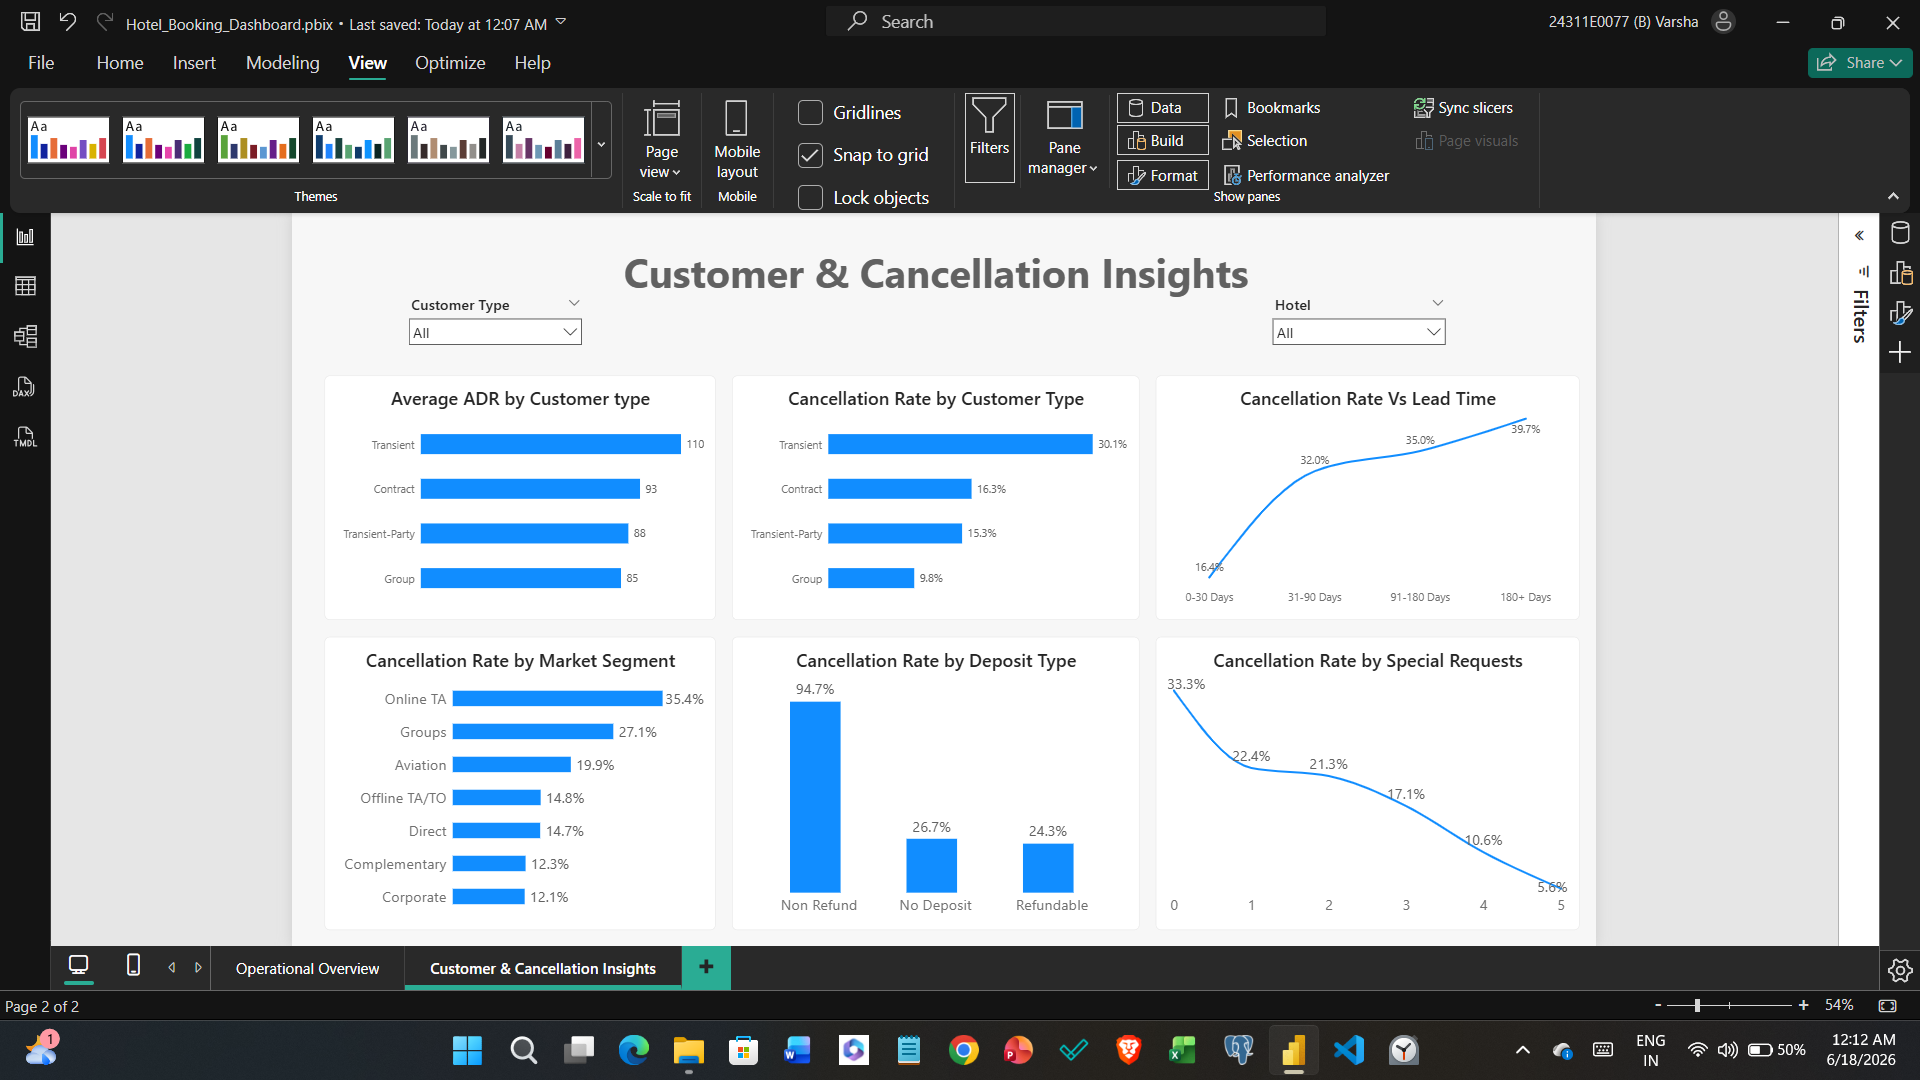

This screenshot's page, from the dashboard's own definition file:
{"tool":"powerbi","page":{"name":"Customer & Cancellation Insights","canvas":[1920,1080],"ordinal":1},"visuals":[{"type":"clusteredBarChart","title":"Average ADR by Customer type","fields":{"Category":["hotel_bookings_cleaned.customer_type"],"Y":["hotel_bookings_cleaned.Average ADR"]},"box":[48,240,576,360],"z":0},{"type":"clusteredBarChart","title":"Cancellation Rate by Customer Type","fields":{"Category":["hotel_bookings_cleaned.customer_type"],"Y":["hotel_bookings_cleaned.Cancellation_rate"]},"box":[648,240,600,360],"z":1},{"type":"clusteredBarChart","title":"Cancellation Rate by Market Segment","fields":{"Category":["hotel_bookings_cleaned.market_segment"],"Y":["hotel_bookings_cleaned.Cancellation_rate"]},"box":[48,624,576,432],"z":2},{"type":"clusteredColumnChart","title":"Cancellation Rate by Deposit Type","fields":{"Category":["hotel_bookings_cleaned.deposit_type"],"Y":["hotel_bookings_cleaned.Cancellation_rate"]},"box":[648,624,600,432],"z":3},{"type":"lineChart","title":"Cancellation Rate Vs Lead Time","fields":{"Category":["hotel_bookings_cleaned.Lead_time_group"],"Y":["hotel_bookings_cleaned.Cancellation_rate"]},"box":[1272,240,624,360],"z":4},{"type":"lineChart","title":"Cancellation Rate by Special Requests","fields":{"Category":["hotel_bookings_cleaned.total_of_special_requests"],"Y":["hotel_bookings_cleaned.Cancellation_rate"]},"box":[1272,624,624,432],"z":5},{"type":"textbox","box":[456,48,984,96],"z":6},{"type":"slicer","title":"Customer Type","fields":{"Values":["hotel_bookings_cleaned.customer_type"]},"box":[168,120,264,96],"z":7},{"type":"slicer","fields":{"Values":["hotel_bookings_cleaned.hotel"]},"box":[1440,120,264,96],"z":8}]}

Visuals, with their boxes on the page's 1920x1080 design canvas (x1, y1, x2, y2). These are canvas units, not pixel positions in the 1920x1080 screenshot, which may show the page scaled, cropped or inside an application window:
"Average ADR by Customer type" clusteredBarChart: [48, 240, 624, 600]
"Cancellation Rate by Customer Type" clusteredBarChart: [648, 240, 1248, 600]
"Cancellation Rate by Market Segment" clusteredBarChart: [48, 624, 624, 1056]
"Cancellation Rate by Deposit Type" clusteredColumnChart: [648, 624, 1248, 1056]
"Cancellation Rate Vs Lead Time" lineChart: [1272, 240, 1896, 600]
"Cancellation Rate by Special Requests" lineChart: [1272, 624, 1896, 1056]
textbox: [456, 48, 1440, 144]
"Customer Type" slicer: [168, 120, 432, 216]
slicer - hotel_bookings_cleaned.hotel: [1440, 120, 1704, 216]
